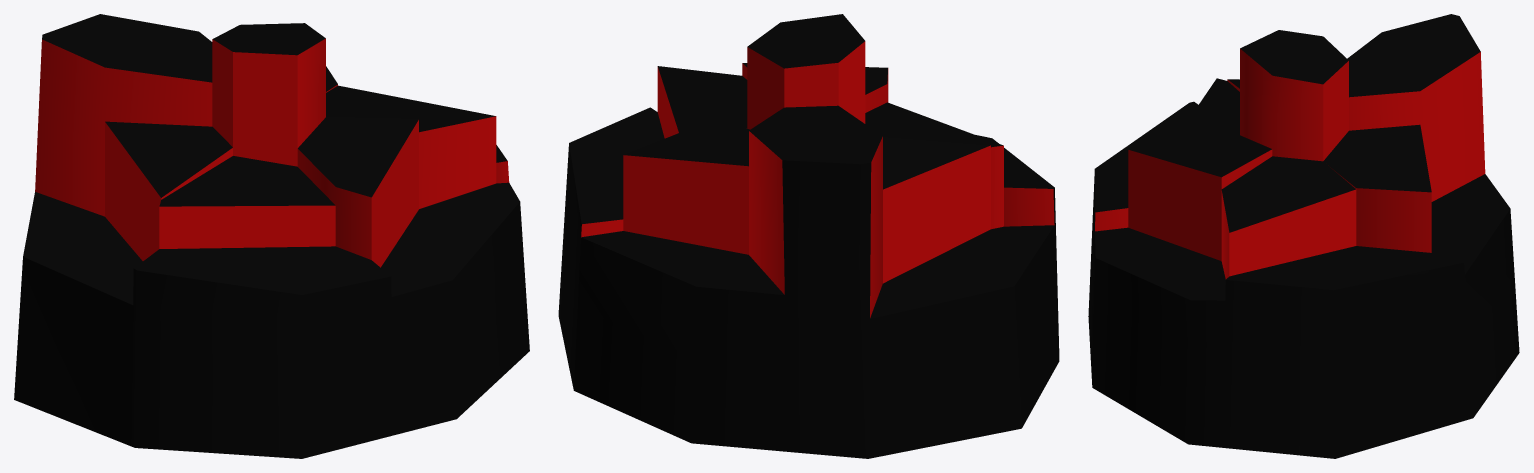
Rendered from iron_rock_v2.glb.
3 views of the same model, side by side, from view 1: azimuth 30°, elevation 25°; view 2: azimuth 150°, elevation 25°; view 3: azimuth 270°, elevation 25° (orthographic). The views are drawn at different scales.
Visible parts, largest first — view 1: Chunk_J, Chunk_K, Chunk_I, Chunk_C, Body_Core, Chunk_E, Chunk_F, Chunk_D, Chunk_A; view 2: Chunk_H, Chunk_C, Chunk_I, Chunk_B, Chunk_D, Body_Core, Chunk_G, Chunk_A, Chunk_E, Chunk_J, Chunk_F; view 3: Chunk_G, Chunk_K, Chunk_C, Chunk_A, Body_Core, Chunk_H, Chunk_F, Chunk_B, Chunk_J, Chunk_E.
Boxes of the visible parts, x1,y1,x2,y2 form: Chunk_J: (131,246,393,458); Chunk_K: (381,182,529,435); Chunk_I: (14,192,142,446); Chunk_C: (35,14,212,216); Body_Core: (212,23,325,166); Chunk_E: (159,156,335,248); Chunk_F: (297,117,418,267); Chunk_D: (105,121,232,260); Chunk_A: (326,85,496,208); Chunk_H: (573,231,787,451); Chunk_C: (749,105,882,458); Chunk_I: (869,225,1058,458); Chunk_B: (623,128,749,254); Chunk_D: (883,136,990,283); Body_Core: (747,14,865,129); Chunk_G: (558,107,664,388); Chunk_A: (657,66,747,138); Chunk_E: (865,102,1003,229); Chunk_J: (976,135,1059,362); Chunk_F: (742,63,888,112); Chunk_G: (1222,246,1470,458); Chunk_K: (1090,227,1225,447); Chunk_C: (1347,14,1485,201); Chunk_A: (1221,156,1356,279); Body_Core: (1240,30,1348,161); Chunk_H: (1431,174,1519,418); Chunk_F: (1128,135,1272,260); Chunk_B: (1323,124,1431,252); Chunk_J: (1088,101,1198,356); Chunk_E: (1175,78,1239,139).
Size of the model in its own units: 2.69 by 1.9 by 2.3.
